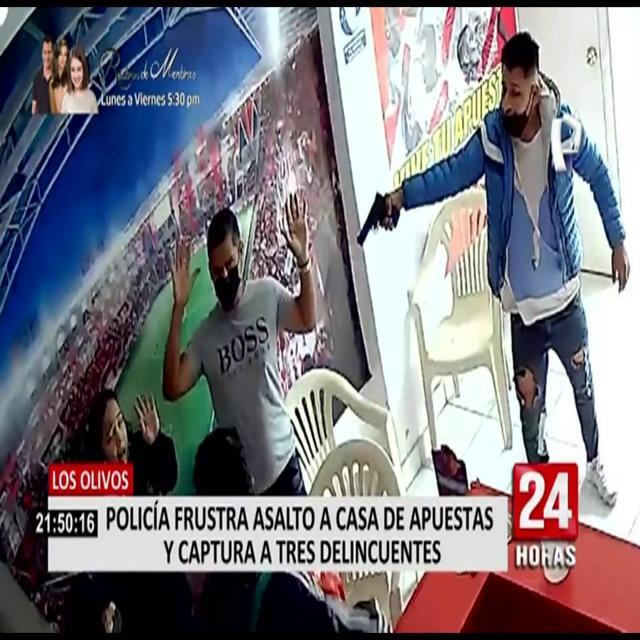weapon: (352, 182, 400, 264)
